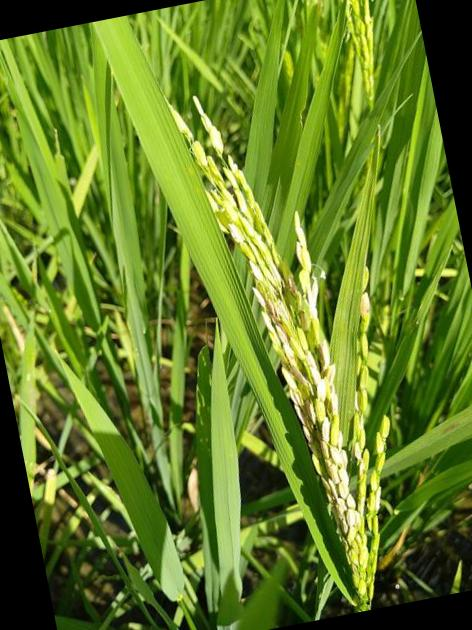Panicle Blight: (176, 97, 368, 593), (352, 293, 371, 484), (364, 468, 381, 553)
